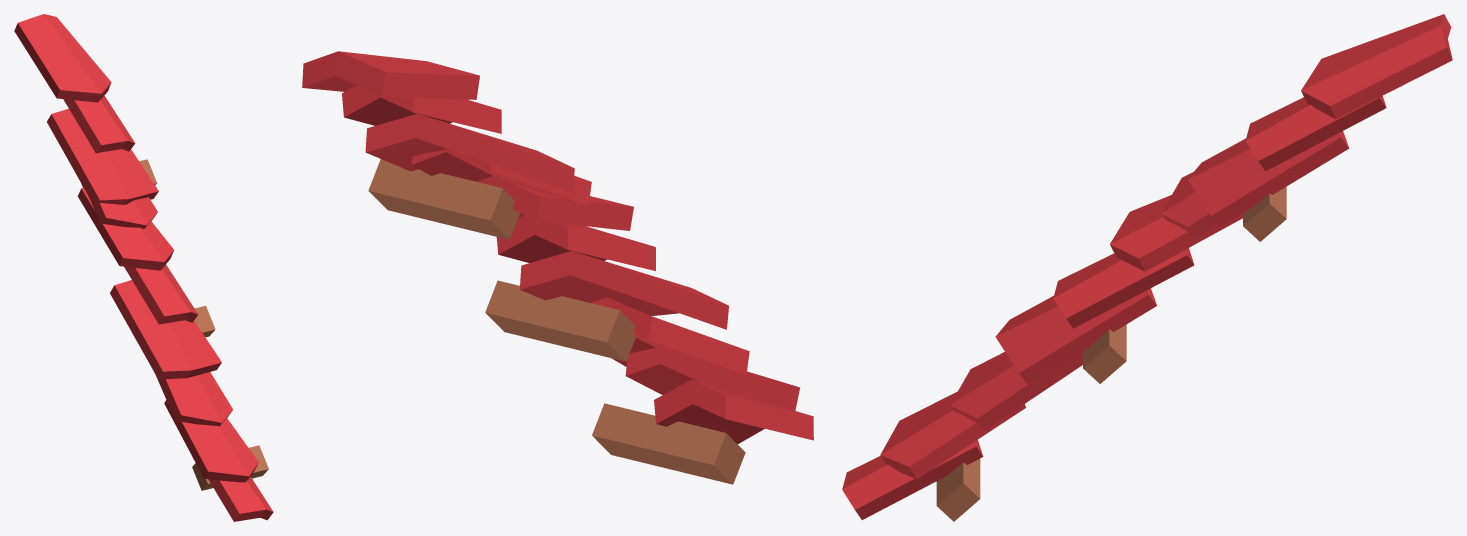
File: Roof 01 Finish Side 01.fbx
3 views of the same model, side by side, from view 1: azimuth 30°, elevation 25°; view 2: azimuth 150°, elevation 25°; view 3: azimuth 270°, elevation 25° (orthographic). The views are drawn at different scales.
Parts seen in each view (by area): view 1: Roof 01 Finish Side 01; view 2: Roof 01 Finish Side 01; view 3: Roof 01 Finish Side 01.
Part boxes in pixels (x1,y1,x2,y2): Roof 01 Finish Side 01: (14, 14, 273, 521); Roof 01 Finish Side 01: (302, 51, 813, 484); Roof 01 Finish Side 01: (842, 14, 1452, 521).
Bounding box in the file's own units: 92.4 × 382 × 435.
